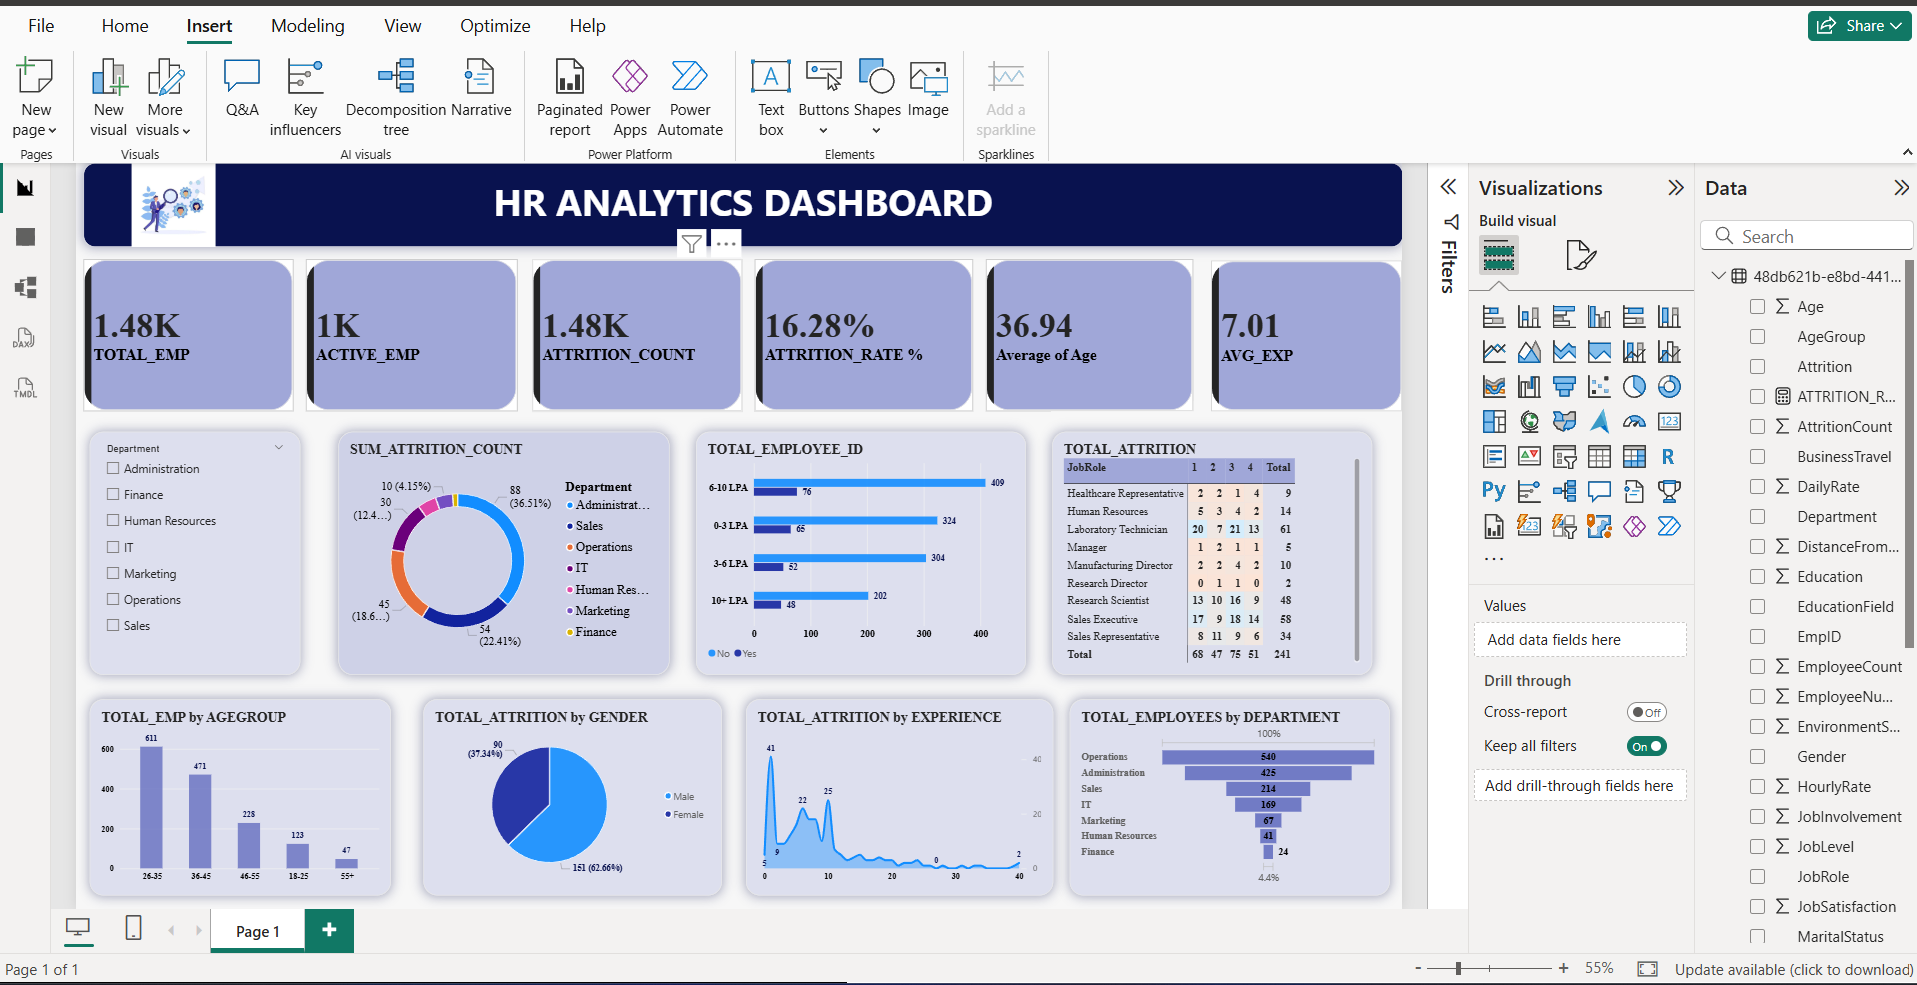

What the dashboard file says about the page in this screenshot:
{"tool":"powerbi","page":{"name":"Page 1","canvas":[1920,1080],"ordinal":0},"visuals":[{"type":"textbox","box":[10.3,0,1910.1,121.4],"z":0},{"type":"image","box":[0,0,265.5,125.6],"z":1000},{"type":"cardVisual","fields":{"Data":["CountNonNull(48db621b-e8bd-441d-aadb-5ddfda6.EmpID)"]},"box":[10.3,140,304.6,220.2],"z":2000},{"type":"cardVisual","title":"ACTIVE_","fields":{"Data":["Sum(48db621b-e8bd-441d-aadb-5ddfda6.EmployeeCount)"]},"box":[333.4,140,306.7,220.2],"z":3000},{"type":"cardVisual","fields":{"Data":["Avg(48db621b-e8bd-441d-aadb-5ddfda6.Age)"]},"box":[1317.3,140,300.5,220.2],"z":4000},{"type":"cardVisual","fields":{"Data":["Avg(48db621b-e8bd-441d-aadb-5ddfda6.YearsatCompany)"]},"box":[1642.5,142,277.9,218.2],"z":5000},{"type":"cardVisual","fields":{"Data":["CountNonNull(48db621b-e8bd-441d-aadb-5ddfda6.Attrition)"]},"box":[660.7,140,304.6,220.2],"z":6000},{"type":"cardVisual","fields":{"Data":["48db621b-e8bd-441d-aadb-5ddfda6.ATTRITION_RATE %"]},"box":[981.8,140,317,220.2],"z":7000},{"type":"textbox","box":[10,390,305,220],"z":8000},{"type":"donutChart","title":"SUM_ATTRITION_COUNT","fields":{"Category":["48db621b-e8bd-441d-aadb-5ddfda6.Department"],"Y":["Sum(48db621b-e8bd-441d-aadb-5ddfda6.AttritionCount)"]},"box":[380.8,389,479.6,352],"z":9000},{"type":"clusteredBarChart","title":"TOTAL_EMPLOYEE_ID","fields":{"Category":["48db621b-e8bd-441d-aadb-5ddfda6.SalarySlab"],"Series":["48db621b-e8bd-441d-aadb-5ddfda6.Attrition"],"Y":["CountNonNull(48db621b-e8bd-441d-aadb-5ddfda6.EmpID)"]},"box":[897.4,389,477.5,352],"z":10000},{"type":"pivotTable","title":"TOTAL_ATTRITION","fields":{"Columns":["48db621b-e8bd-441d-aadb-5ddfda6.JobSatisfaction"],"Rows":["48db621b-e8bd-441d-aadb-5ddfda6.JobRole"],"Values":["Sum(48db621b-e8bd-441d-aadb-5ddfda6.AttritionCount)"]},"box":[1414.1,389,463.1,352],"z":11000},{"type":"columnChart","fields":{"Category":["48db621b-e8bd-441d-aadb-5ddfda6.AgeGroup"],"Y":["Sum(48db621b-e8bd-441d-aadb-5ddfda6.EmployeeCount)"]},"box":[20.6,776,436.4,284],"z":12000},{"type":"pieChart","fields":{"Category":["48db621b-e8bd-441d-aadb-5ddfda6.Gender"],"Y":["Sum(48db621b-e8bd-441d-aadb-5ddfda6.AttritionCount)"]},"box":[502.2,776,432.2,284],"z":13000},{"type":"areaChart","fields":{"Category":["48db621b-e8bd-441d-aadb-5ddfda6.TotalExperience(Years)"],"Y2":["Sum(48db621b-e8bd-441d-aadb-5ddfda6.AttritionCount)"]},"box":[969.5,776,444.6,284],"z":14000},{"type":"funnel","fields":{"Category":["48db621b-e8bd-441d-aadb-5ddfda6.Department"],"Y":["CountNonNull(48db621b-e8bd-441d-aadb-5ddfda6.EmpID)"]},"box":[1438.8,776,463,284],"z":15000},{"type":"slicer","fields":{"Values":["48db621b-e8bd-441d-aadb-5ddfda6.Department"]},"box":[20.6,389,304.6,352],"z":16000},{"type":"image","box":[10.3,0,261.4,121.4],"z":16001}]}

Visuals, with their boxes on the page's 1920x1080 design canvas (x1, y1, x2, y2). These are canvas units, not pixel positions in the 1917x985 screenshot, which may show the page scaled, cropped or inside an application window:
textbox: [10, 0, 1920, 121]
image: [0, 0, 266, 126]
cardVisual - CountNonNull(48db621b-e8bd-441d-aadb-5ddfda6.EmpID): [10, 140, 315, 360]
"ACTIVE_" cardVisual: [333, 140, 640, 360]
cardVisual - Avg(48db621b-e8bd-441d-aadb-5ddfda6.Age): [1317, 140, 1618, 360]
cardVisual - Avg(48db621b-e8bd-441d-aadb-5ddfda6.YearsatCompany): [1642, 142, 1920, 360]
cardVisual - CountNonNull(48db621b-e8bd-441d-aadb-5ddfda6.Attrition): [661, 140, 965, 360]
cardVisual - 48db621b-e8bd-441d-aadb-5ddfda6.ATTRITION_RATE %: [982, 140, 1299, 360]
textbox: [10, 390, 315, 610]
"SUM_ATTRITION_COUNT" donutChart: [381, 389, 860, 741]
"TOTAL_EMPLOYEE_ID" clusteredBarChart: [897, 389, 1375, 741]
"TOTAL_ATTRITION" pivotTable: [1414, 389, 1877, 741]
columnChart - 48db621b-e8bd-441d-aadb-5ddfda6.AgeGroup x Sum(48db621b-e8bd-441d-aadb-5ddfda6.EmployeeCount): [21, 776, 457, 1060]
pieChart - 48db621b-e8bd-441d-aadb-5ddfda6.Gender x Sum(48db621b-e8bd-441d-aadb-5ddfda6.AttritionCount): [502, 776, 934, 1060]
areaChart - 48db621b-e8bd-441d-aadb-5ddfda6.TotalExperience(Years) x Sum(48db621b-e8bd-441d-aadb-5ddfda6.AttritionCount): [970, 776, 1414, 1060]
funnel - 48db621b-e8bd-441d-aadb-5ddfda6.Department x CountNonNull(48db621b-e8bd-441d-aadb-5ddfda6.EmpID): [1439, 776, 1902, 1060]
slicer - 48db621b-e8bd-441d-aadb-5ddfda6.Department: [21, 389, 325, 741]
image: [10, 0, 272, 121]
